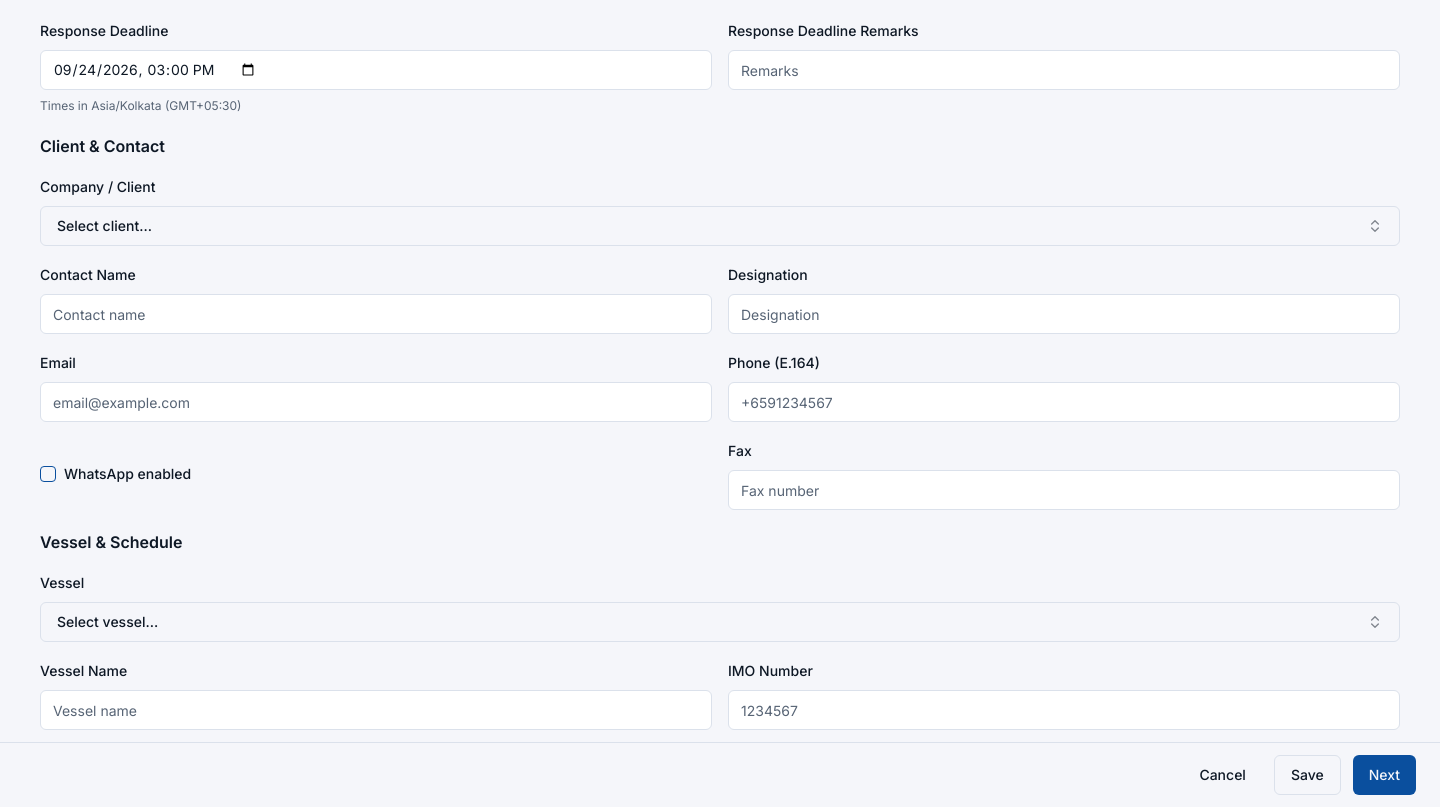
Scenario: Step1Client › a client-side schema error (bad email) shows FormMessage and blocks Save
(page scrolled)
// Type a bad email
Type "not-an-email" into the field with placeholder "email@example.com". click: (376, 402)
box: [40, 382, 712, 422]
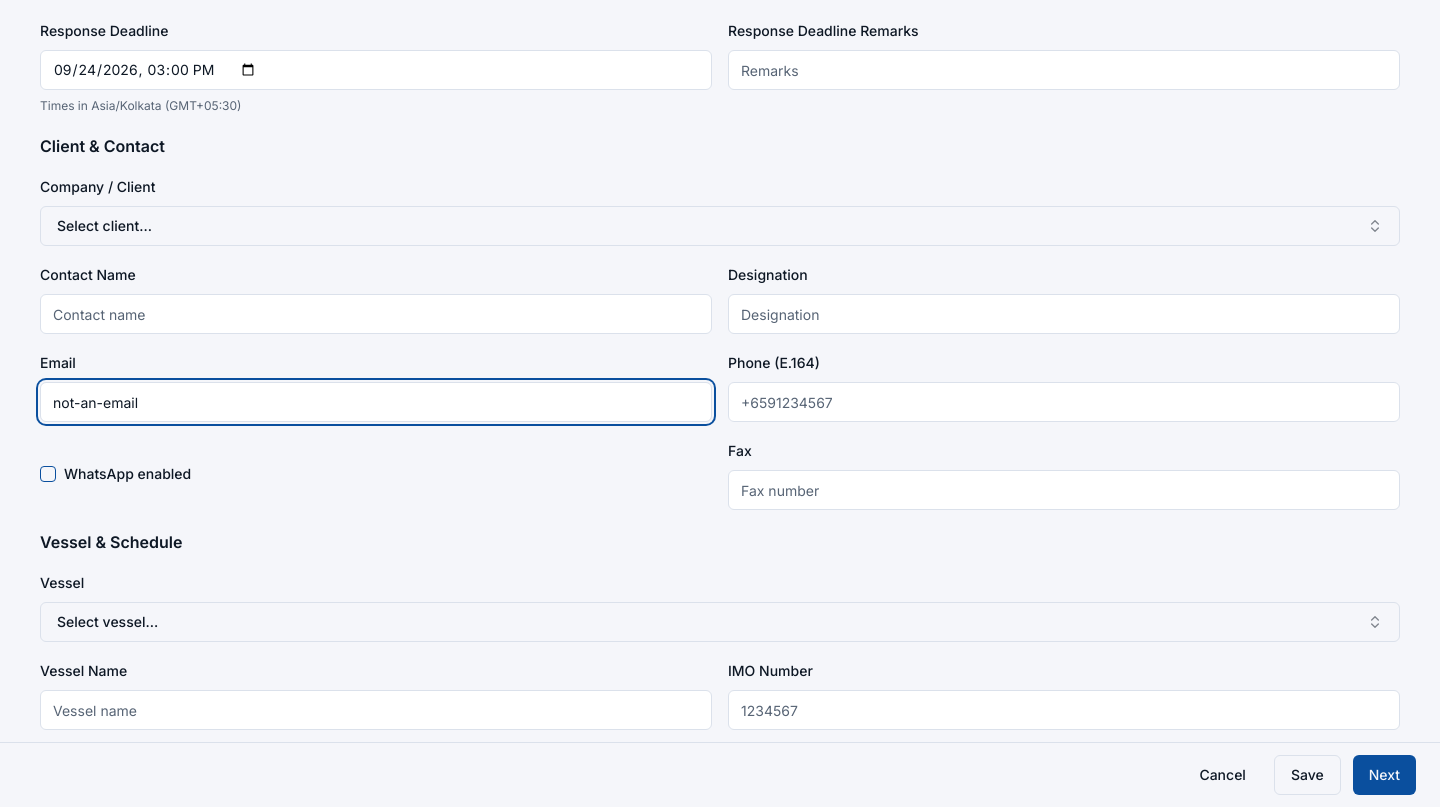
// Hit Save
Click the button "Save". click: (1307, 775)
box: [1274, 755, 1341, 795]
(page scrolled)
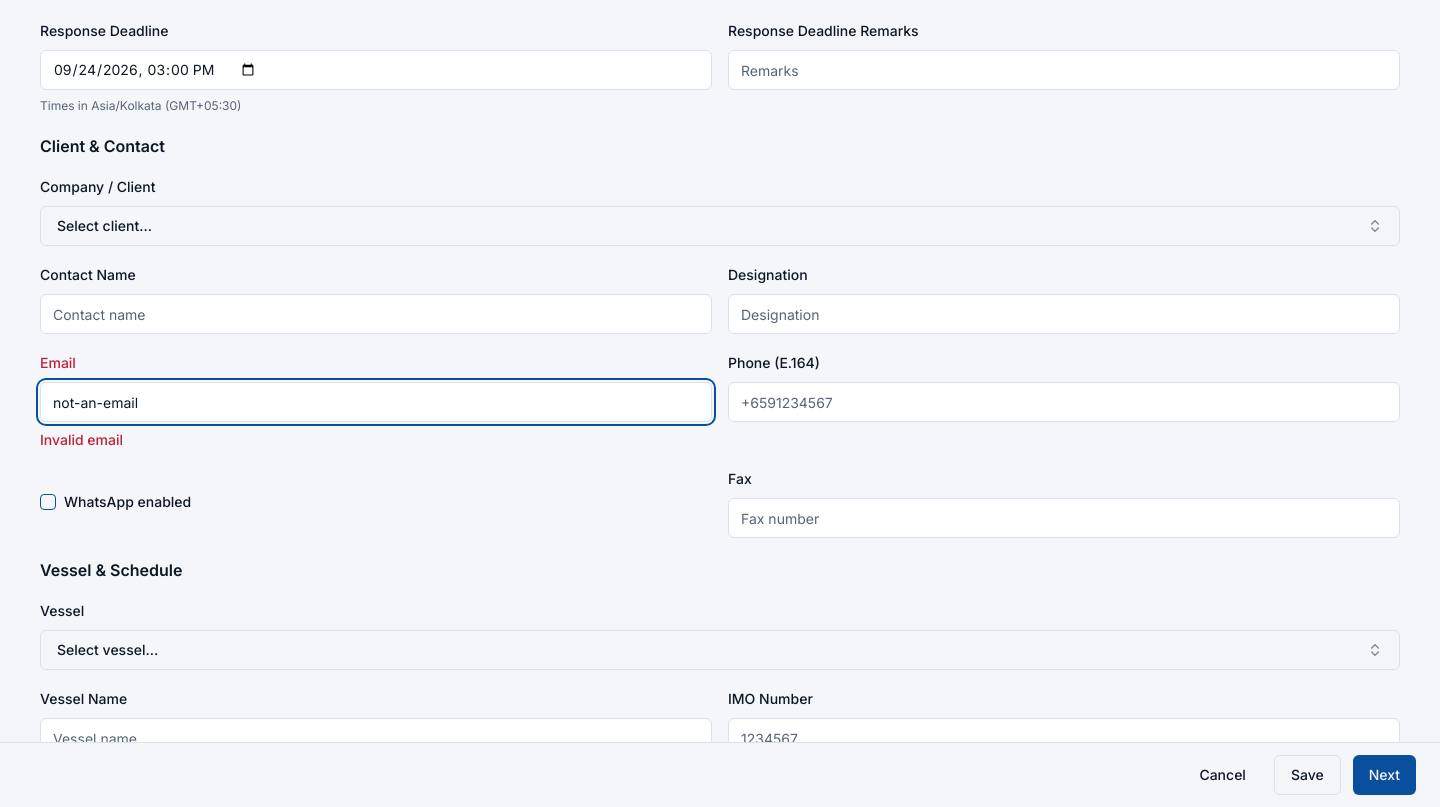
Check: the text "Invalid email" is shown, box [40, 431, 123, 448]
